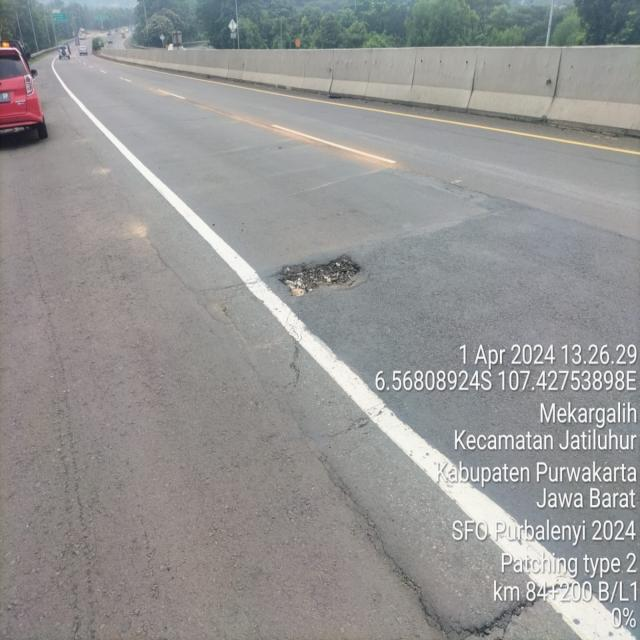Buraco: (276, 252, 370, 300)
